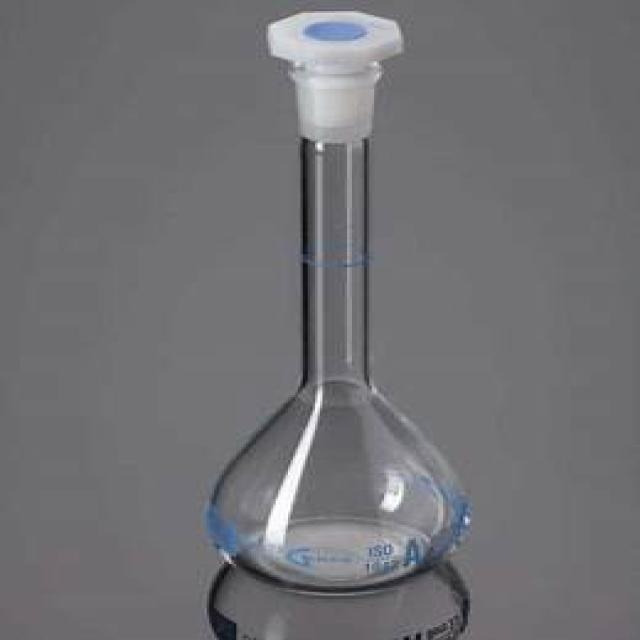Volumetric flask: (181, 15, 484, 579)
